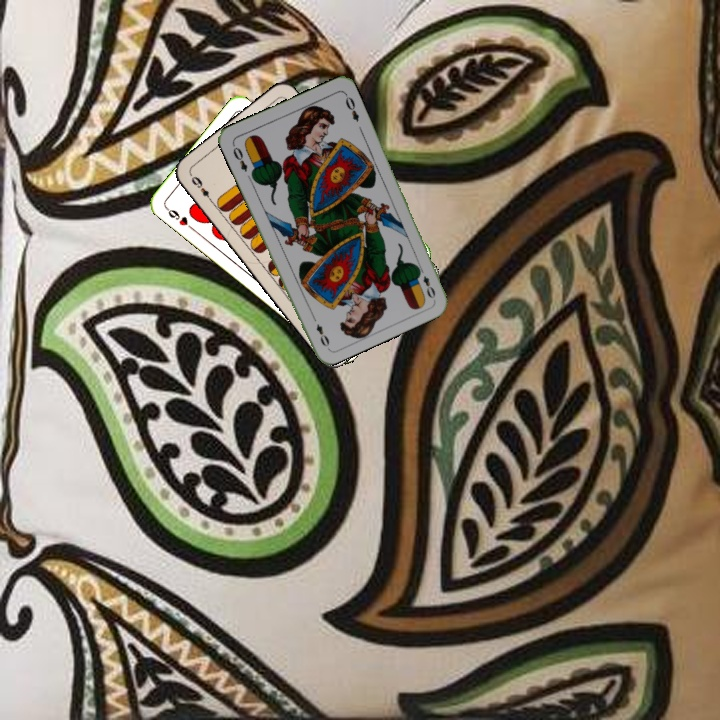E9: (187, 172, 216, 206)
EO: (414, 263, 438, 301), (228, 140, 250, 174)
H9: (161, 203, 196, 232)
